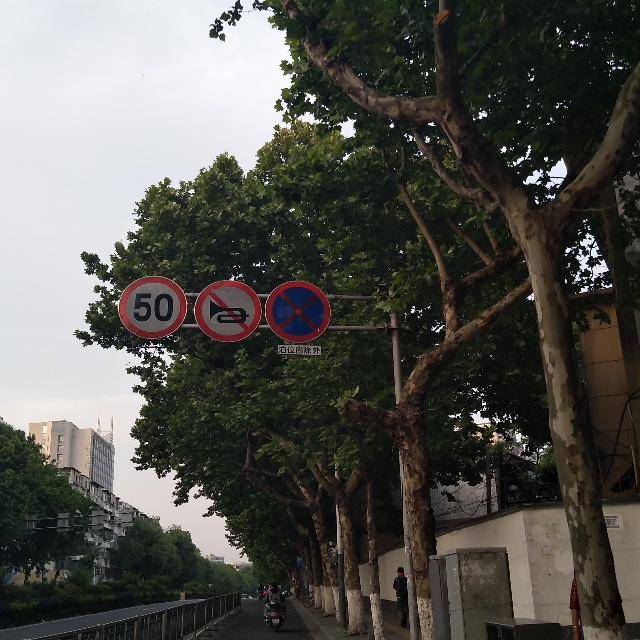nohonk: (197, 285, 258, 336)
stop: (269, 286, 328, 338)
